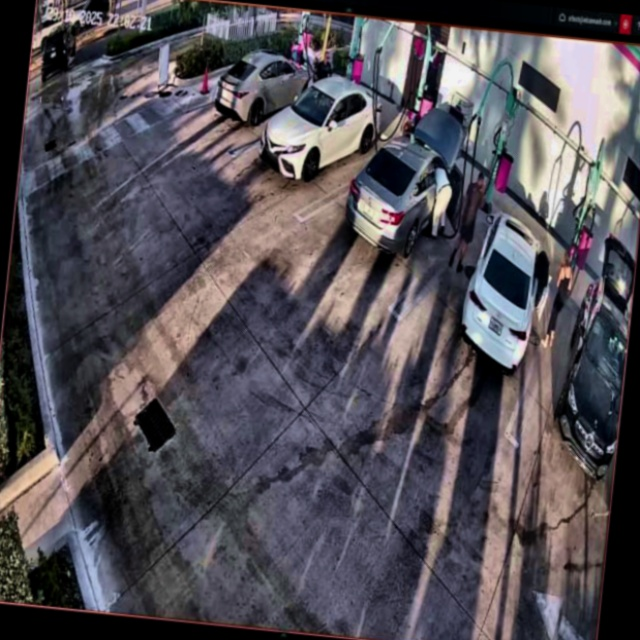Car: (343, 95, 460, 258), (257, 66, 386, 190), (458, 213, 550, 380)
